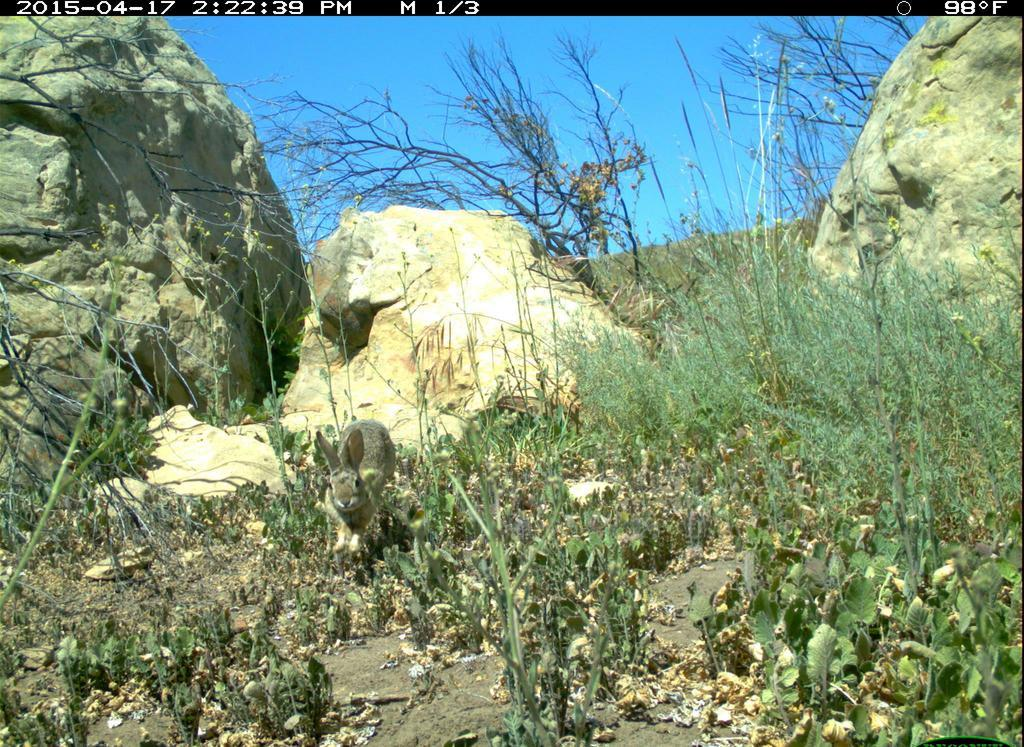rabbit: (301, 392, 397, 579)
